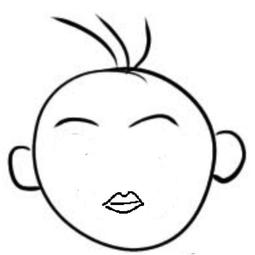cupid_mouth: (89, 183, 156, 219)
ear: (204, 126, 249, 187), (8, 141, 48, 197)
eyebrow: (120, 109, 181, 128), (50, 112, 106, 132)
